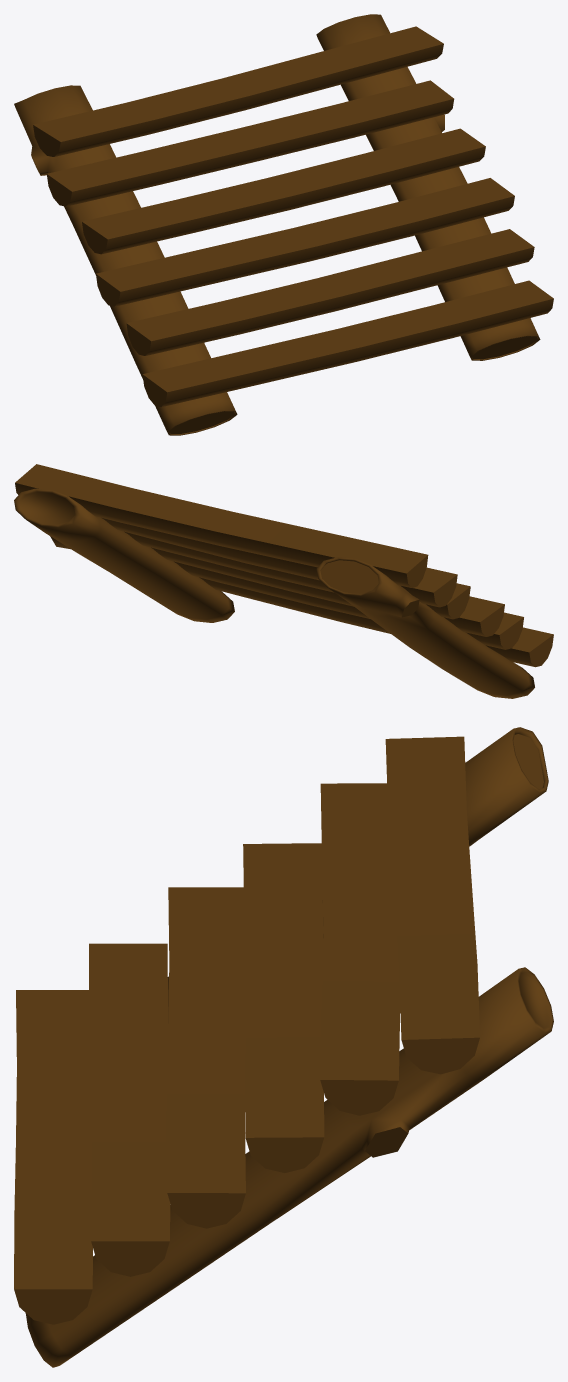
The model's file is medium.glb.
3 views of the same model, one above another, from view 1: azimuth 30°, elevation 25°; view 2: azimuth 150°, elevation 25°; view 3: azimuth 270°, elevation 25° (orthographic). The views are drawn at different scales.
Visible parts, largest first — view 1: LogStaris_02_GEO; view 2: LogStaris_02_GEO; view 3: LogStaris_02_GEO.
Part boxes in pixels (x1=…): LogStaris_02_GEO: x1=14, y1=14, x2=553, y2=435; LogStaris_02_GEO: x1=14, y1=464, x2=553, y2=698; LogStaris_02_GEO: x1=14, y1=727, x2=553, y2=1367.
Bounding box in the file's own units: 2.07 × 1.2 × 1.53.
